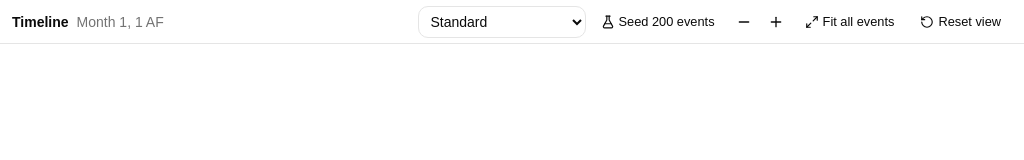
TimelinePage › switches the display calendar and redraws the centre date in it
Check: the text named "Centre of the view" reads "Month 1, 1 AF", box [76,14,164,30]
Select "Elven Reckoning" in the dropdown named "Display calendar" at (502, 22), box [418,6,586,38]
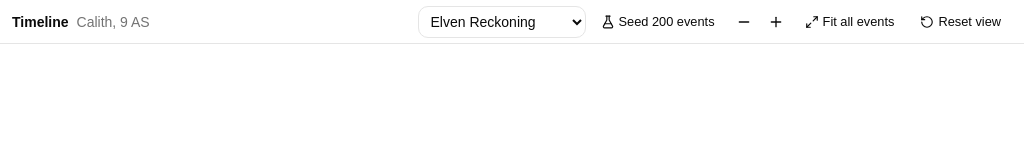
Check: the text labelled "Centre of the view" no longer shows "Month 1, 1 AF"
